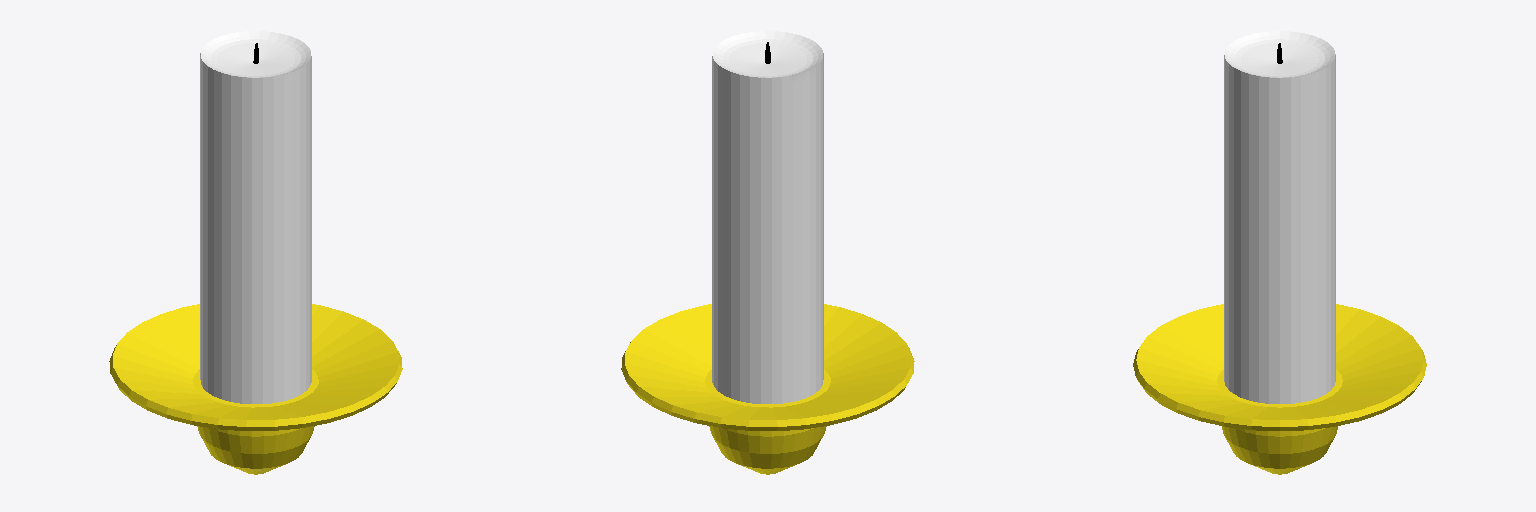
3 views of the same model, side by side, from view 1: azimuth 30°, elevation 25°; view 2: azimuth 150°, elevation 25°; view 3: azimuth 270°, elevation 25° (orthographic).
Visible parts, largest first — view 1: 円柱; view 2: 円柱; view 3: 円柱.
Part boxes in pixels (x1,y1,x2,y2): 円柱: (109,31,402,474); 円柱: (621,31,914,474); 円柱: (1133,31,1426,474).
Size of the model in its own units: 5.28 by 8.45 by 5.28.
1 materials, 1 textured.